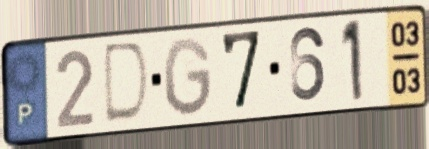1: (338, 15, 366, 107)
2: (54, 47, 97, 131)
6: (287, 24, 329, 108)
7: (219, 28, 263, 116)
D: (101, 38, 153, 127)
G: (161, 34, 214, 120)
